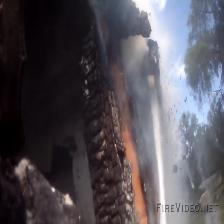smoke: (83, 0, 174, 224)
